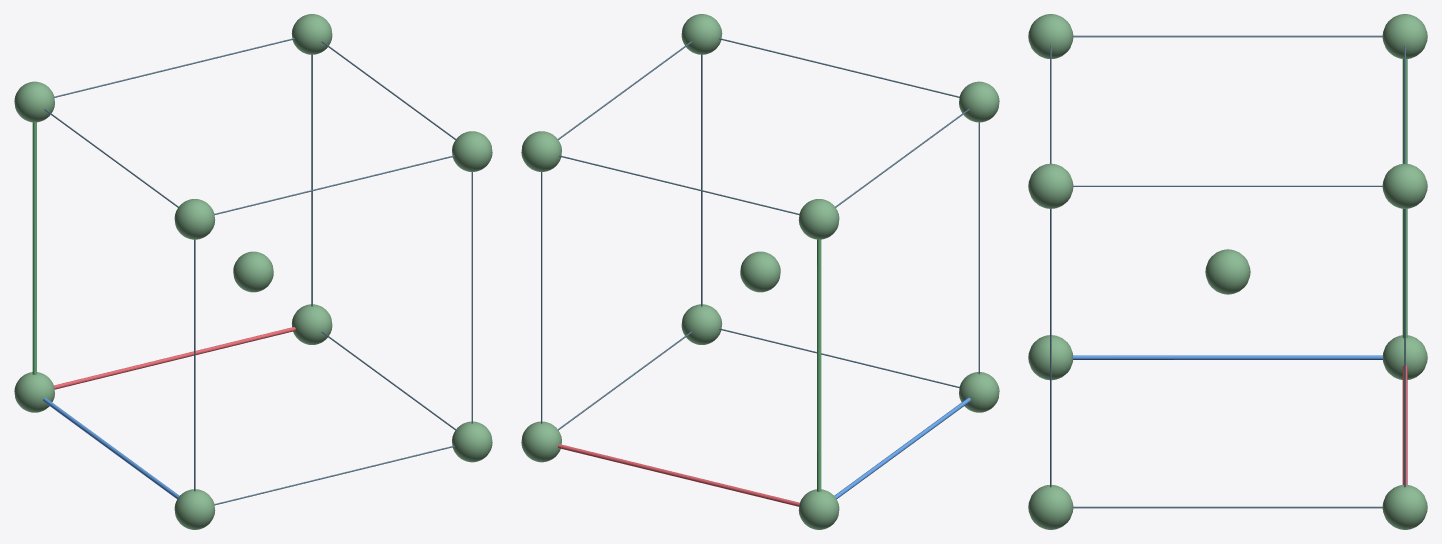
Rendered from nguyen-to-ba.glb.
The picture shows the model from 3 angles, left to right: view 1: azimuth 30°, elevation 25°; view 2: azimuth 150°, elevation 25°; view 3: azimuth 270°, elevation 25°; orthographic projection. The views are drawn at different scales.
Visible parts, largest first — view 1: Ba · Ba · 1 (×9), Ô mạng và các trục a, b, c; view 2: Ba · Ba · 1 (×9), Ô mạng và các trục a, b, c; view 3: Ba · Ba · 1 (×9), Ô mạng và các trục a, b, c.
Boxes of the visible parts, x1,y1,x2,y2 form: Ba · Ba · 1 (×9): (14,14,492,529); Ô mạng và các trục a, b, c: (32,38,472,505); Ba · Ba · 1 (×9): (521,14,999,529); Ô mạng và các trục a, b, c: (541,38,979,506); Ba · Ba · 1 (×9): (1028,14,1427,529); Ô mạng và các trục a, b, c: (1050,35,1407,508).
Size of the model in its own units: 5.65 by 5.65 by 5.65.
